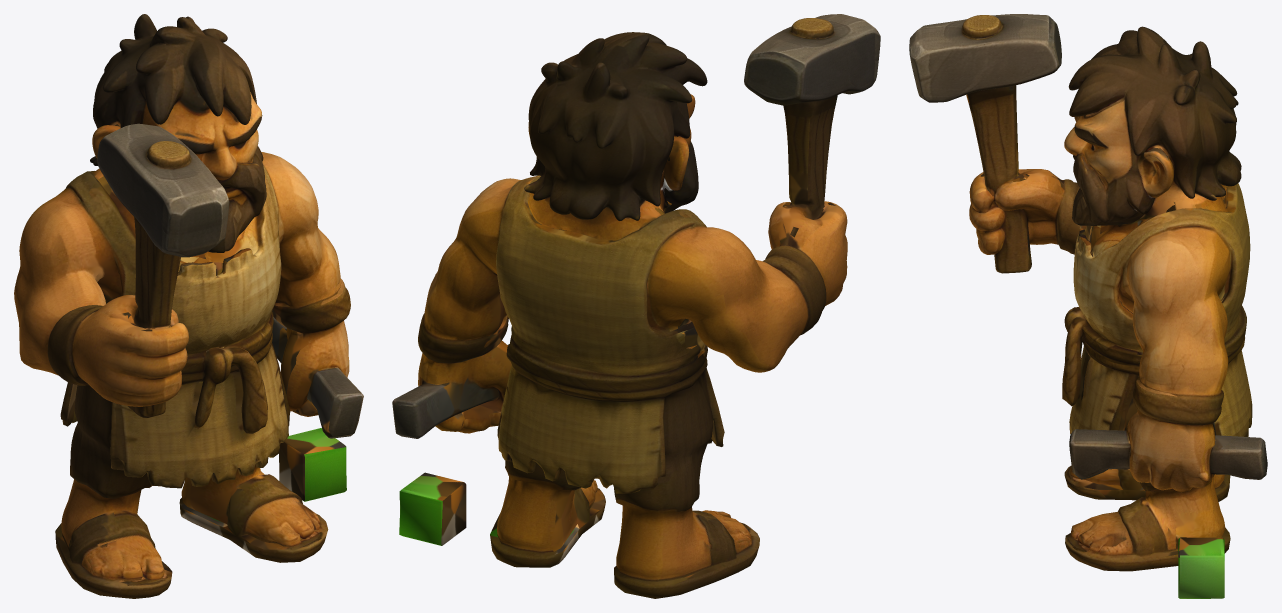
File: gym-model.glb
3 views of the same model, side by side, from view 1: azimuth 30°, elevation 25°; view 2: azimuth 150°, elevation 25°; view 3: azimuth 270°, elevation 25° (orthographic). The views are drawn at different scales.
Visible parts, largest first — view 1: Blacksmith Figure; view 2: Blacksmith Figure; view 3: Blacksmith Figure.
Part boxes in pixels (x1,y1,x2,y2): Blacksmith Figure: (14,14,363,598); Blacksmith Figure: (392,14,880,598); Blacksmith Figure: (909,14,1267,598).
Bounding box in the file's own units: 0.1523 × 0.22 × 0.1484.
Materials: 1 (1 with a texture image).
